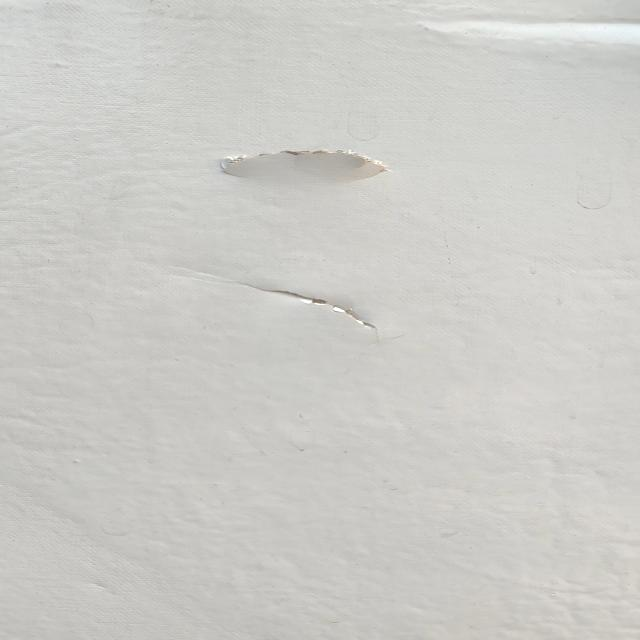Dents or Deformation: (410, 10, 640, 39)
Scratches: (181, 140, 502, 193), (222, 279, 406, 339)
